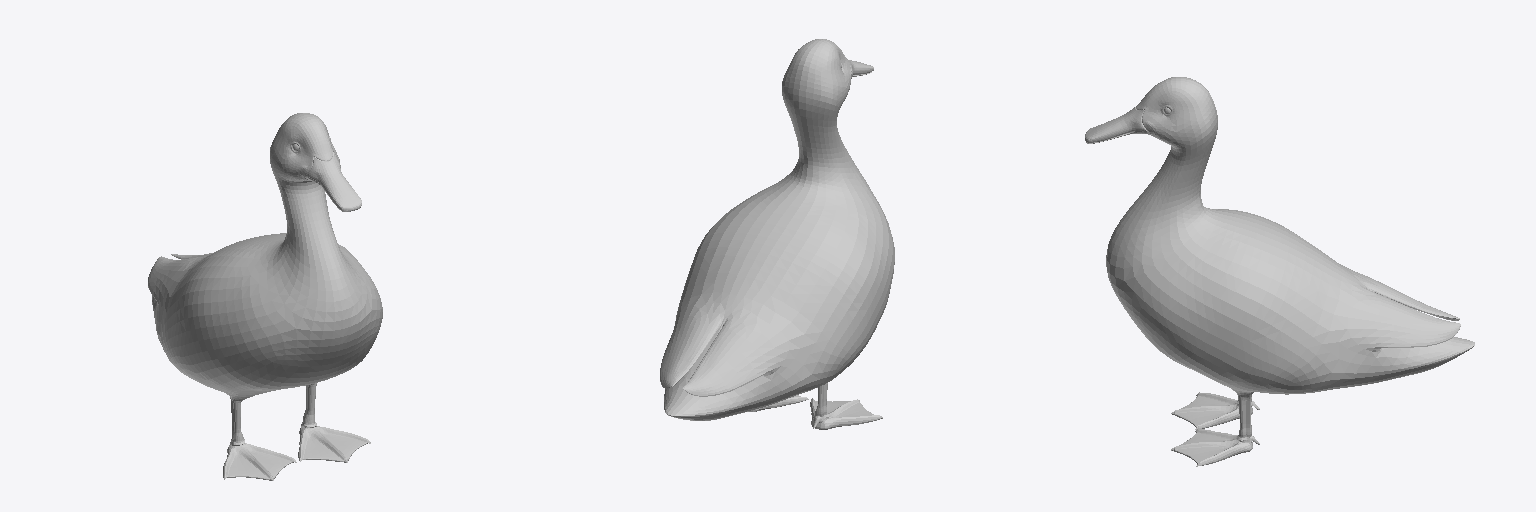
File: canard.obj
3 views of the same model, side by side, from view 1: azimuth 30°, elevation 25°; view 2: azimuth 150°, elevation 25°; view 3: azimuth 270°, elevation 25° (orthographic).
Visible parts, largest first — view 1: canard; view 2: canard; view 3: canard.
Boxes of the visible parts, x1=… form: canard: x1=148, y1=113, x2=382, y2=480; canard: x1=660, y1=39, x2=894, y2=429; canard: x1=1085, y1=77, x2=1474, y2=466.
Bounding box in the file's own units: 28.45 × 56.47 × 56.51.